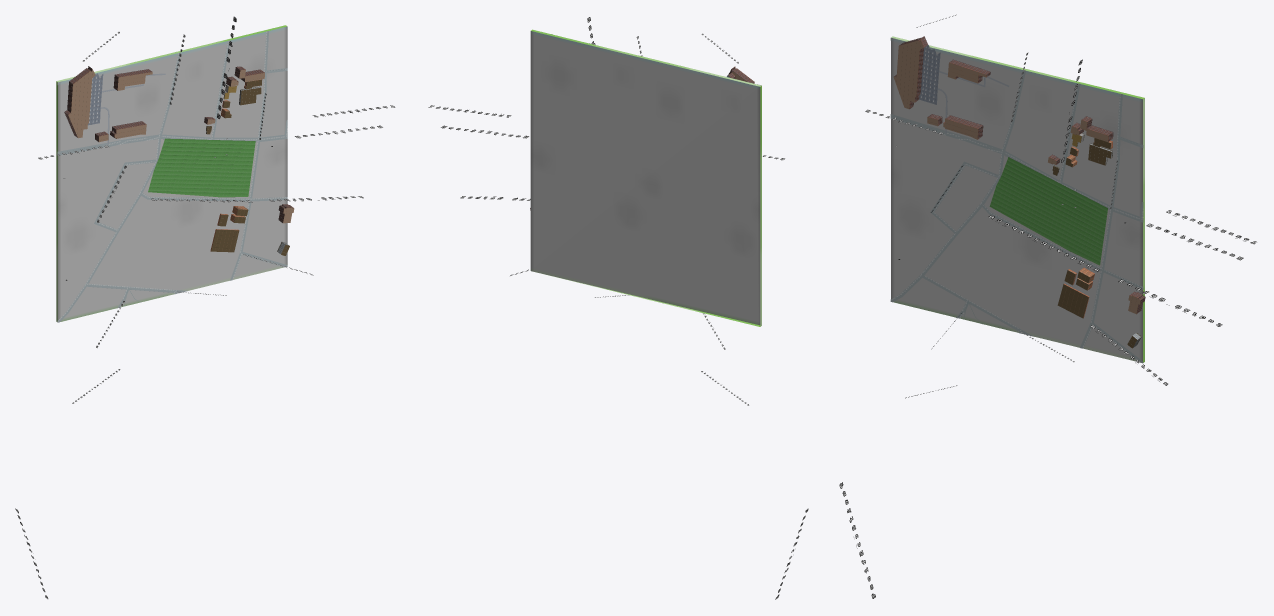
The picture shows the model from 3 angles, left to right: view 1: azimuth 30°, elevation 25°; view 2: azimuth 150°, elevation 25°; view 3: azimuth 330°, elevation 25°; orthographic projection. The views are drawn at different scales.
Parts seen in each view (by area): view 1: POLYGON, BUILDING, POLYLINE, FONT; view 2: POLYGON, FONT; view 3: POLYGON, BUILDING, POLYLINE, FONT.
Boxes of the visible parts, x1,y1,x2,y2 form: POLYGON: [56, 25, 287, 321]; BUILDING: [64, 66, 294, 255]; POLYLINE: [57, 31, 287, 322]; FONT: [15, 16, 395, 598]; POLYGON: [530, 29, 761, 326]; FONT: [428, 17, 808, 599]; POLYGON: [891, 36, 1144, 362]; BUILDING: [893, 36, 1145, 348]; POLYLINE: [890, 37, 1143, 363]; FONT: [839, 14, 1256, 598].
Bounding box in the file's own units: 1011 × 1399 × 29.
4 materials, 4 textured.
